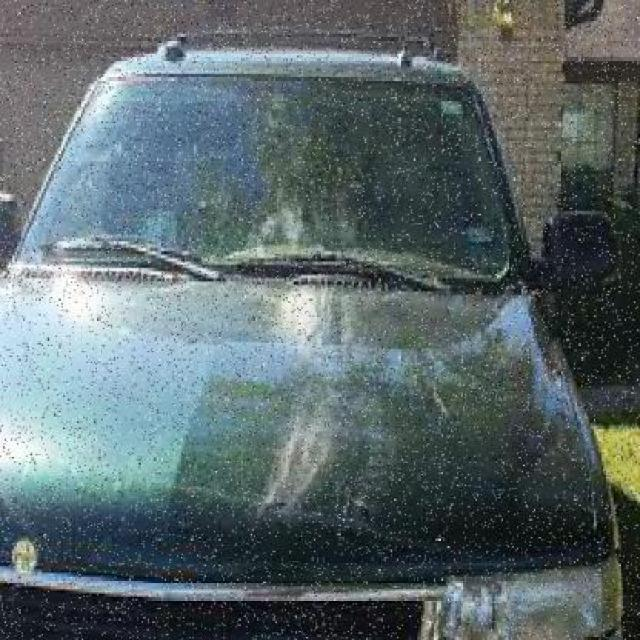bonnet-dent: (0, 275, 601, 611)
